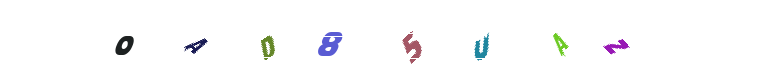5: (345, 0, 425, 80)
8: (342, 0, 422, 80)
A: (285, 0, 365, 80), (428, 0, 508, 80)
D: (341, 0, 421, 80)
O: (109, 0, 189, 80)
U: (350, 0, 430, 80)
Z: (576, 0, 656, 80)
